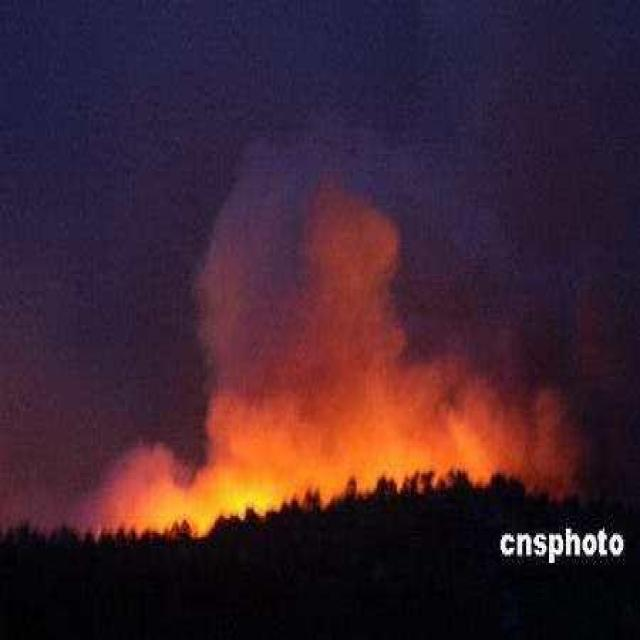fire: (136, 485, 284, 545)
smoke: (181, 181, 497, 469)
